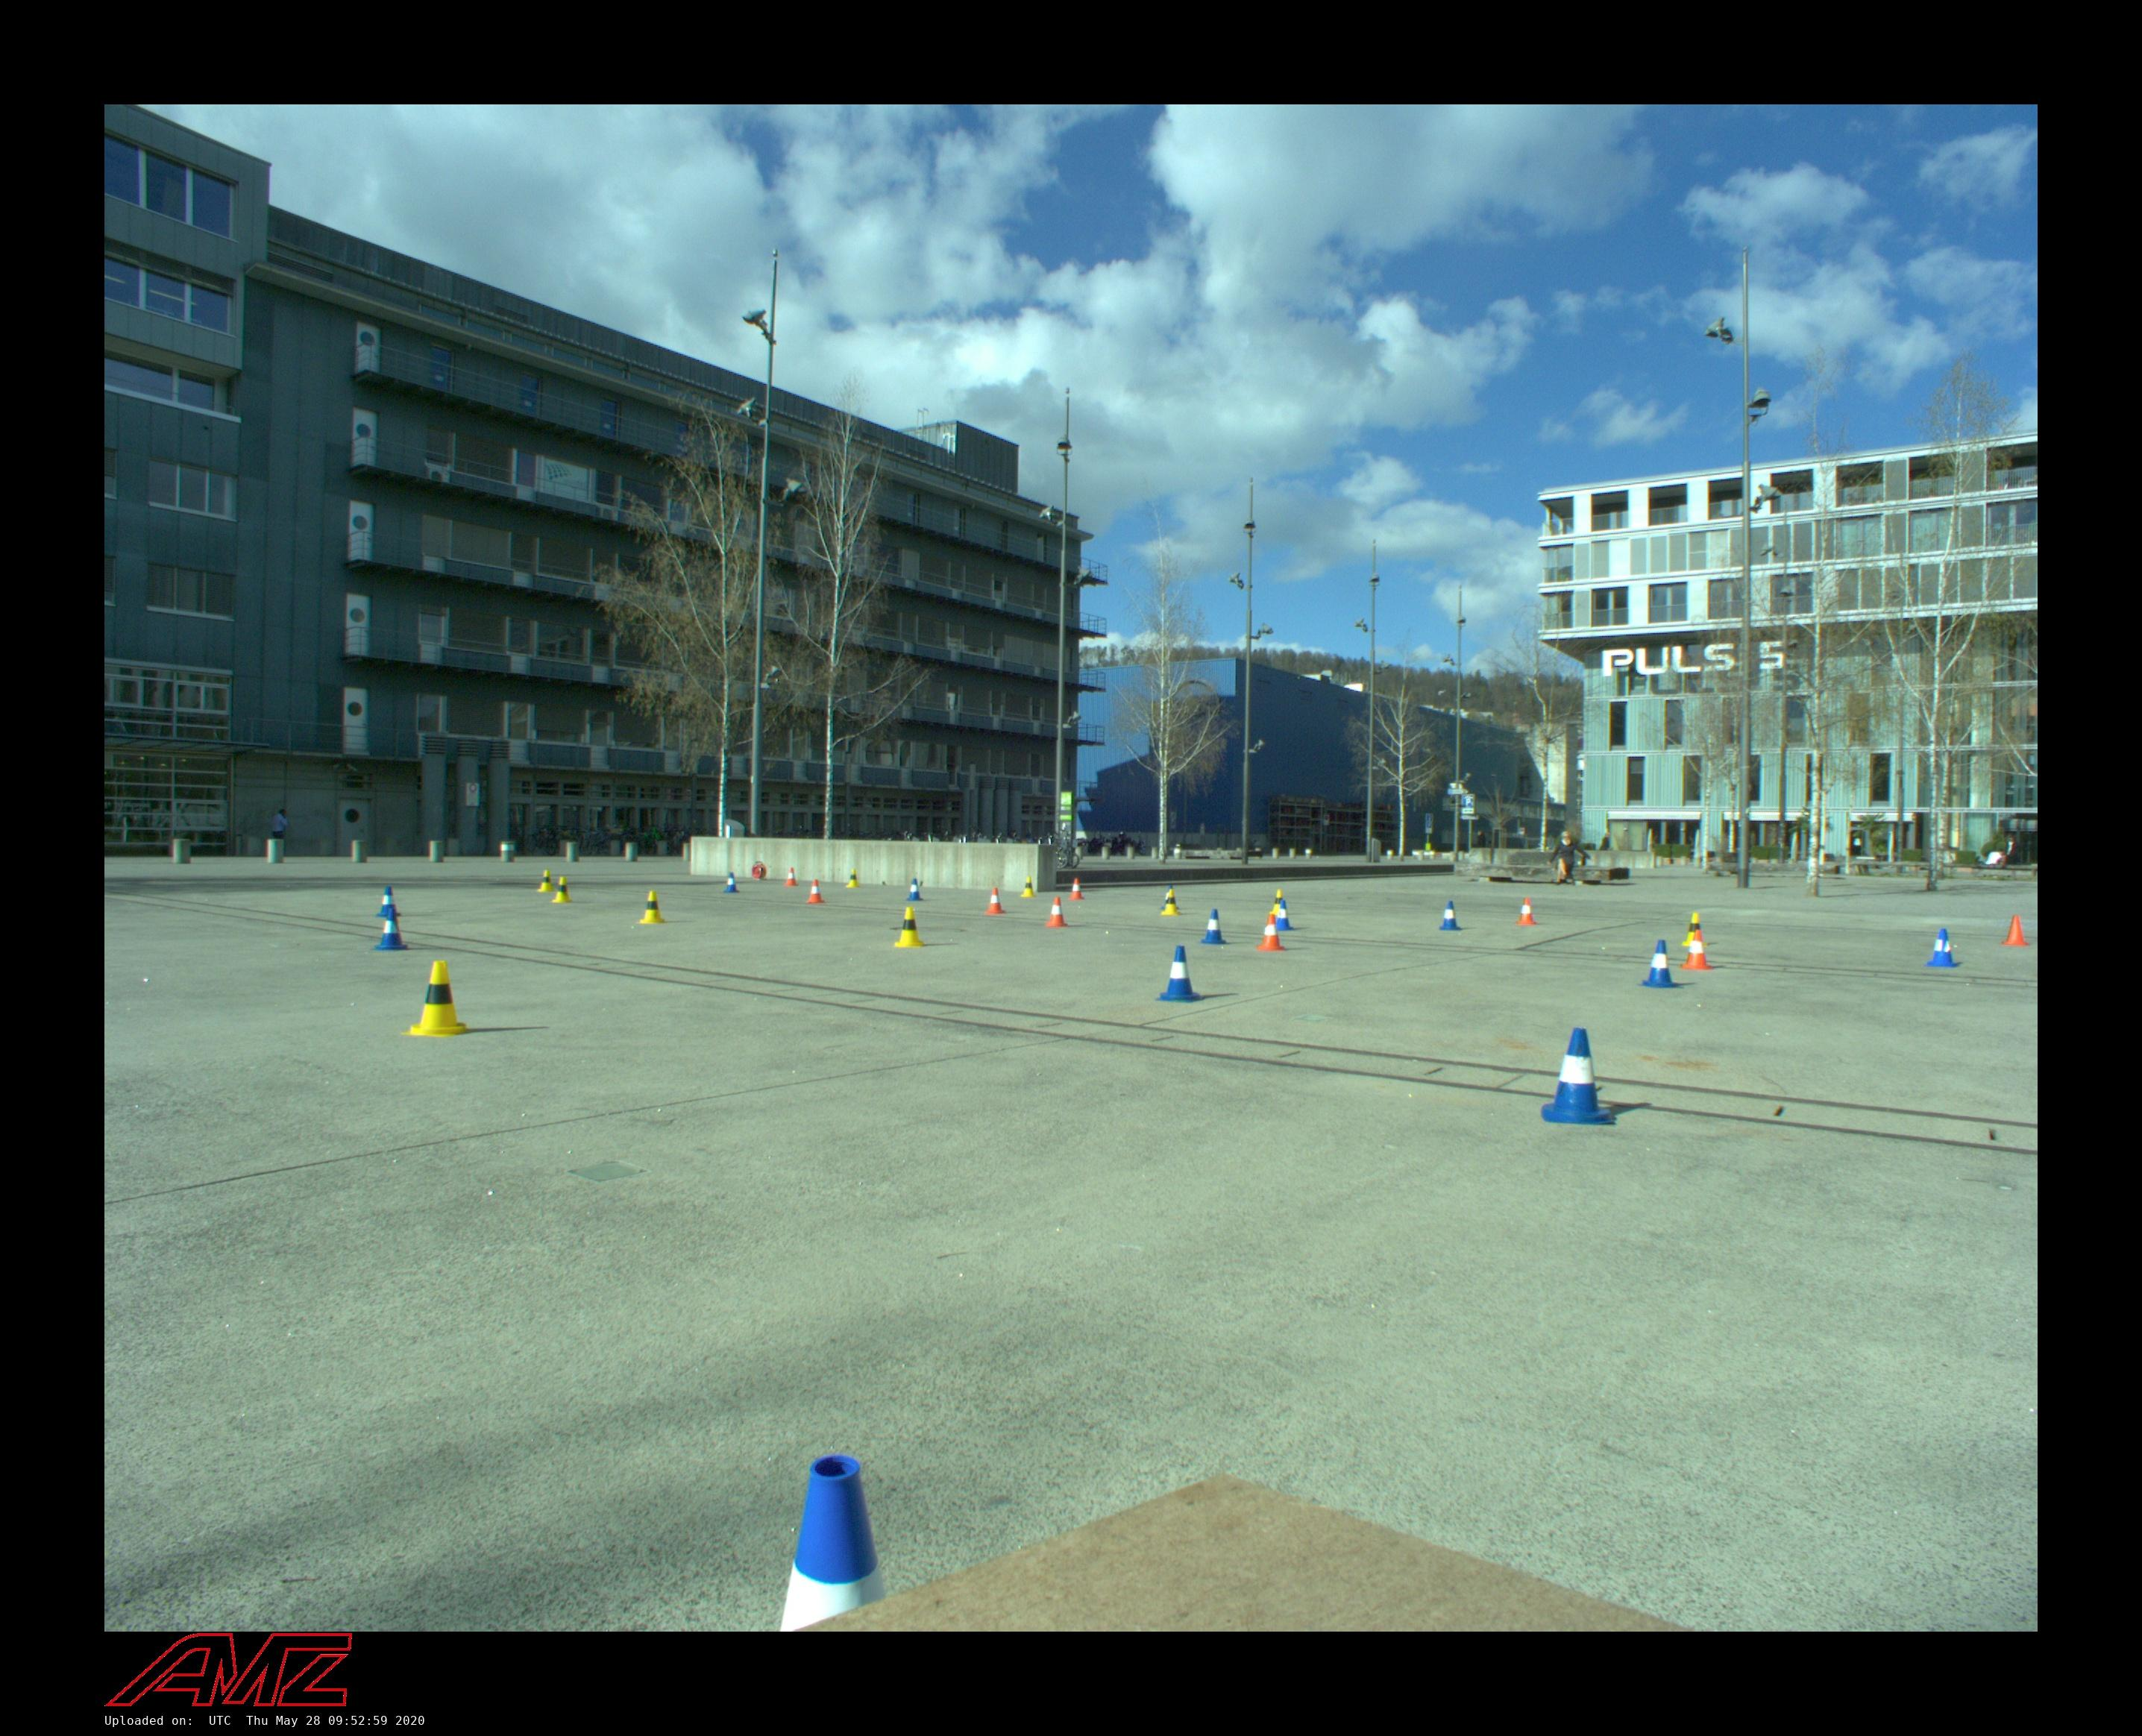blue_cone: (1542, 1028, 1616, 1125), (1156, 946, 1202, 1003), (1642, 940, 1679, 988), (374, 908, 407, 951), (1926, 929, 1959, 967), (1202, 909, 1226, 945), (375, 886, 401, 917), (1272, 901, 1293, 931), (1439, 901, 1460, 931), (905, 878, 923, 901), (723, 872, 739, 893)
orange_cone: (1682, 929, 1712, 970), (1257, 914, 1284, 951), (2002, 916, 2028, 946), (1046, 897, 1067, 927), (985, 888, 1005, 914), (1517, 898, 1535, 925), (806, 879, 824, 904), (1068, 878, 1084, 900), (785, 867, 797, 886)
yellow_cone: (409, 960, 467, 1037), (894, 907, 923, 947), (1683, 913, 1707, 946), (640, 891, 664, 923), (553, 877, 571, 903), (1162, 890, 1179, 916), (1270, 890, 1286, 915), (538, 870, 554, 892), (1022, 876, 1035, 897), (847, 869, 859, 888)
